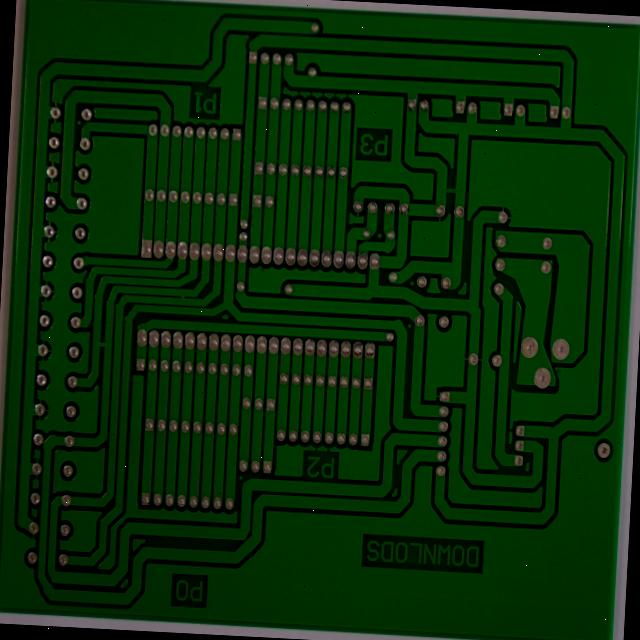short: (482, 209, 518, 245), (97, 394, 124, 426), (190, 339, 210, 366)
